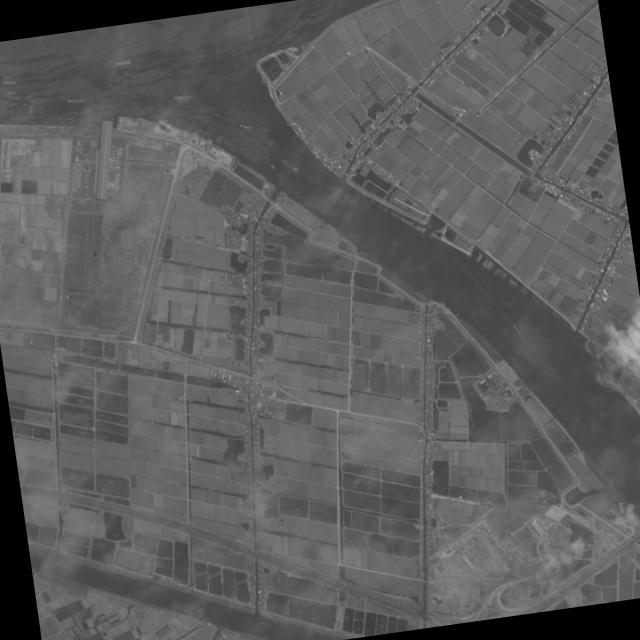ship: (280, 157, 298, 173), (67, 98, 86, 104), (173, 94, 192, 100), (115, 60, 131, 66), (240, 124, 253, 130), (5, 91, 18, 96), (2, 81, 17, 85), (178, 99, 189, 103), (29, 105, 33, 115), (258, 623, 264, 624)
